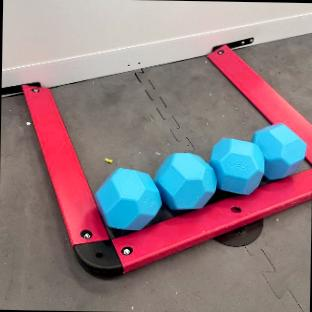Parking-R: (23, 49, 311, 265), (208, 46, 312, 158)
V5_BLUE: (96, 168, 159, 229), (155, 153, 215, 208), (252, 123, 305, 178), (210, 138, 263, 193)
